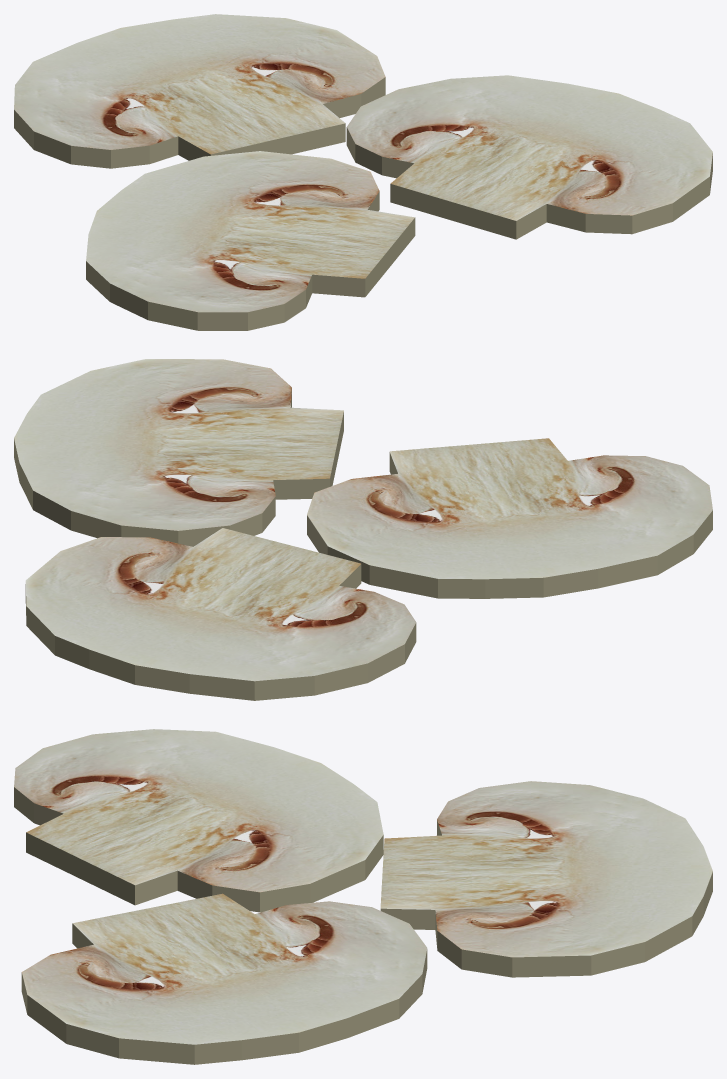
Rendered from chopped mushrooms.fbx.
The picture shows the model from 3 angles, top to bottom: view 1: azimuth 30°, elevation 25°; view 2: azimuth 150°, elevation 25°; view 3: azimuth 270°, elevation 25°; orthographic projection. The views are drawn at different scales.
Parts seen in each view (by area): view 1: Circle.008; view 2: Circle.008; view 3: Circle.008.
Boxes of the visible parts, x1,y1,x2,y2 form: Circle.008: (14,14,712,330); Circle.008: (14,359,712,700); Circle.008: (14,729,712,1064).
Size of the model in its own units: 16.44 by 0.4889 by 15.39.
2 materials, 1 textured.
